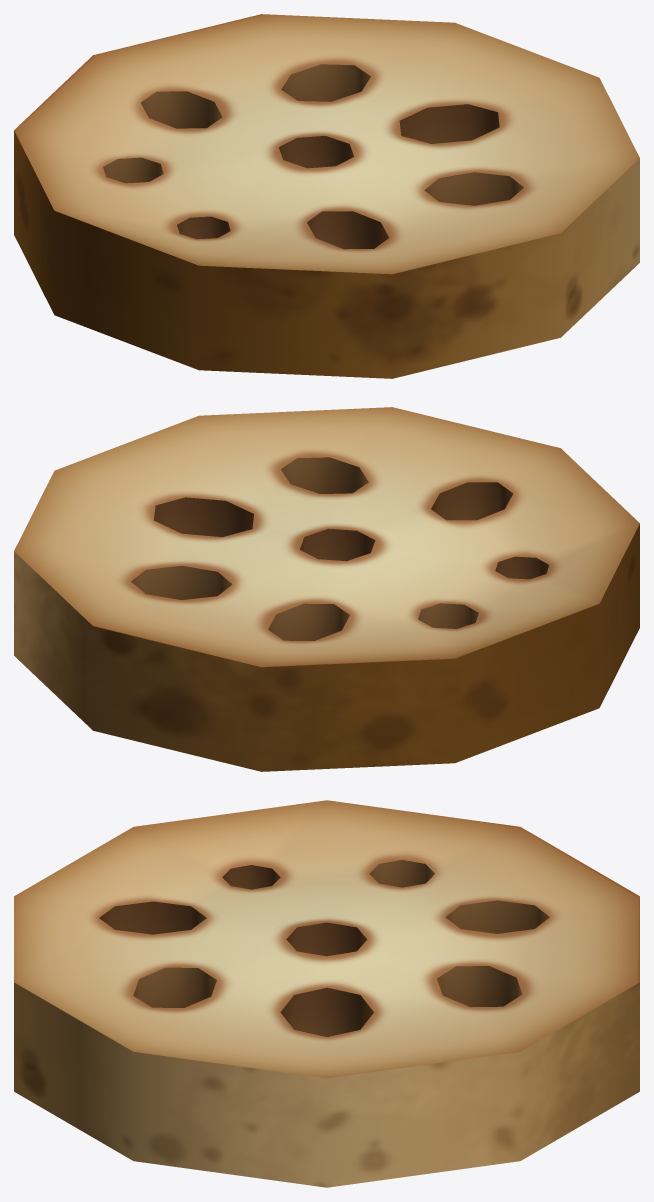
File: Lotus_Slice.fbx
3 renders of one model, top to bottom at view 1: azimuth 30°, elevation 25°; view 2: azimuth 150°, elevation 25°; view 3: azimuth 270°, elevation 25°, orthographic. The views are drawn at different scales.
Visible parts, largest first — view 1: Lotus_Slice; view 2: Lotus_Slice; view 3: Lotus_Slice.
Part boxes in pixels (left/top/right/bottom): Lotus_Slice: left=14, top=14, right=639, bottom=378; Lotus_Slice: left=14, top=407, right=639, bottom=771; Lotus_Slice: left=14, top=800, right=639, bottom=1187.
Bounding box in the file's own units: 39.22 × 7.19 × 37.3.
